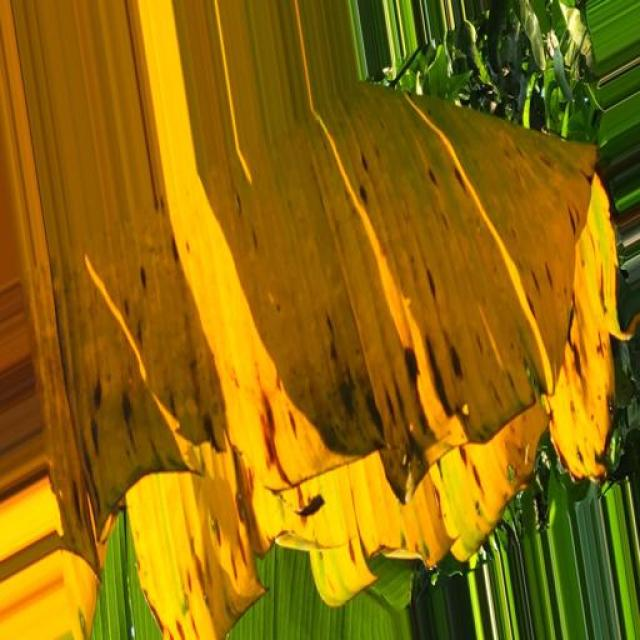Cordana: (0, 13, 633, 640)
